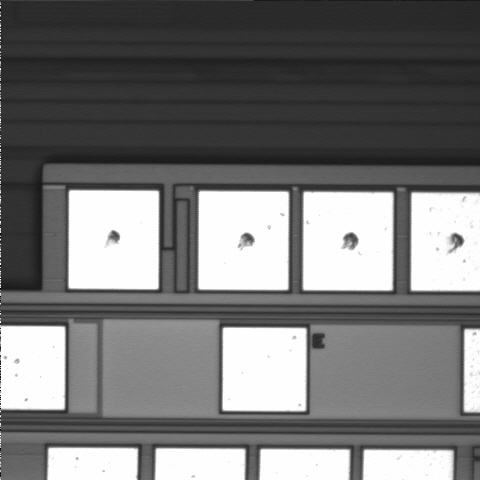pad: (198, 191, 289, 290), (69, 190, 159, 289), (303, 192, 393, 290), (223, 328, 306, 411)
